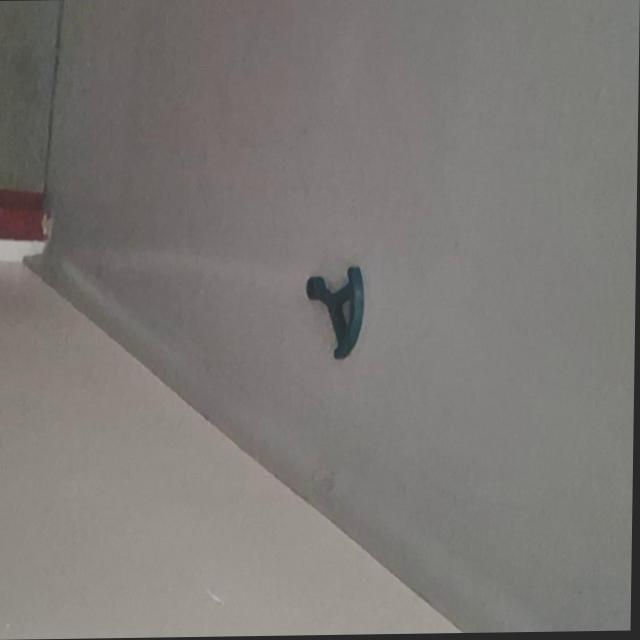haptic: (304, 264, 366, 361)
